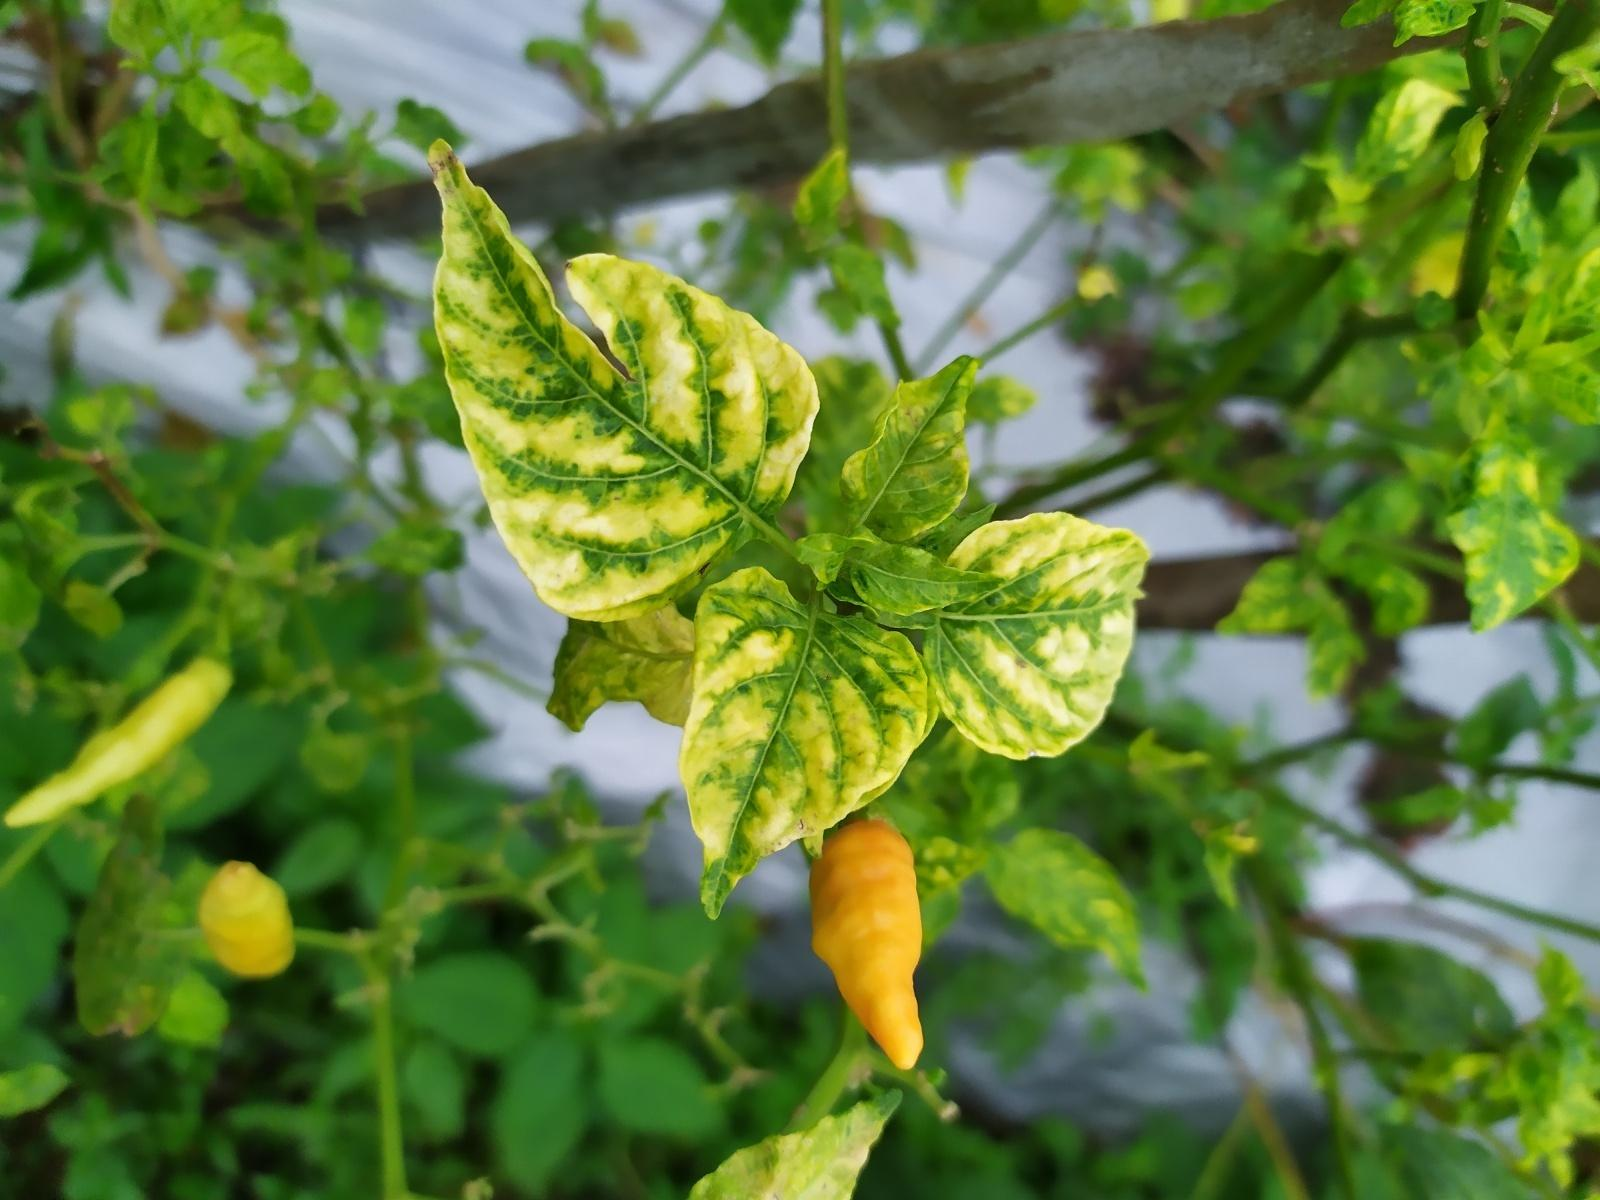cabai_normal: (6, 654, 236, 829), (810, 817, 923, 1070), (199, 858, 294, 976)
